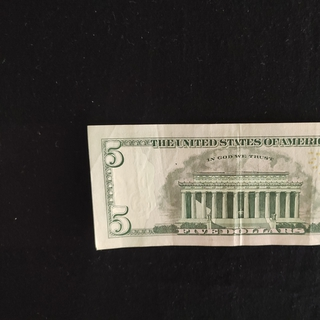5USDBack: (85, 119, 320, 251)
